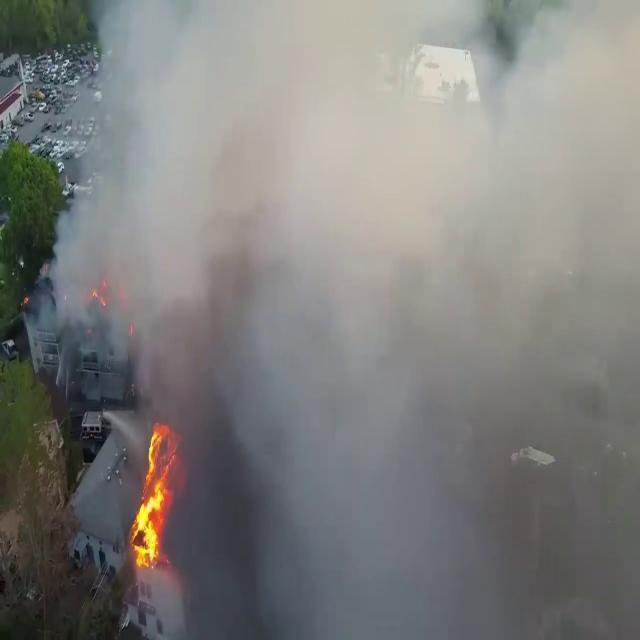Fire: (129, 415, 177, 572)
Smoke: (38, 0, 640, 639)
